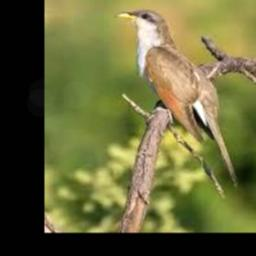Cuckoo: (115, 9, 237, 186)
